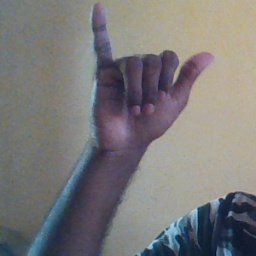J: (84, 3, 218, 153)
